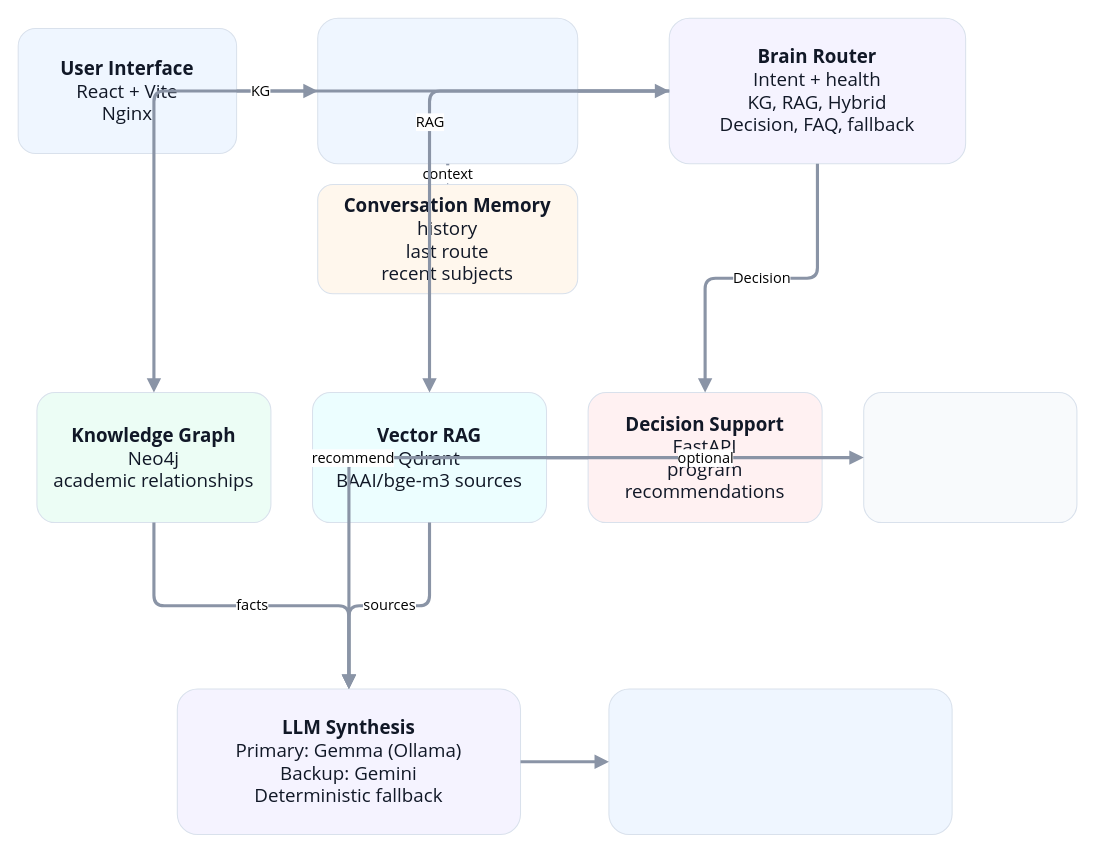
The diagram is 1095 pixels wide and 853 high, and some of its shapes have lost their labels. The shapes that lost their labels are listed below. From the top down, each one's box as (x1, y1, x2, y2) in pixels, then its label:
(317, 17, 578, 164): AI Orchestration Node.js + Express orchestrator.js POST /api/chatbot/query
(863, 392, 1077, 523): RAG Answer optional grounded answer
(608, 688, 952, 835): Grounded Answer final_answer used_facts graph + missing info
